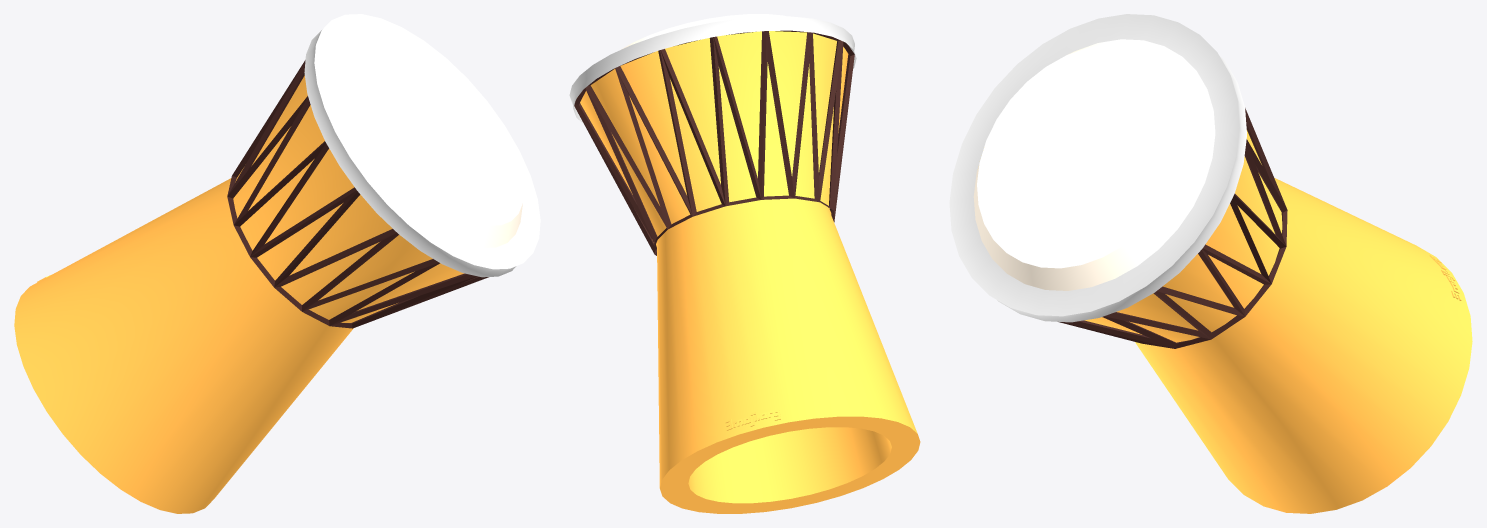
File: long_drum.gltf
3 views of the same model, side by side, from view 1: azimuth 30°, elevation 25°; view 2: azimuth 150°, elevation 25°; view 3: azimuth 270°, elevation 25° (orthographic). The views are drawn at different scales.
Parts seen in each view (by area): view 1: Cylinder.496; view 2: Cylinder.496; view 3: Cylinder.496.
Part boxes in pixels (x1,y1,x2,y2): Cylinder.496: (14,14,540,513); Cylinder.496: (569,14,920,513); Cylinder.496: (949,14,1472,513).
Bounding box in the file's own units: 2.11 × 2.32 × 2.11.
Materials: 1 (1 with a texture image).
